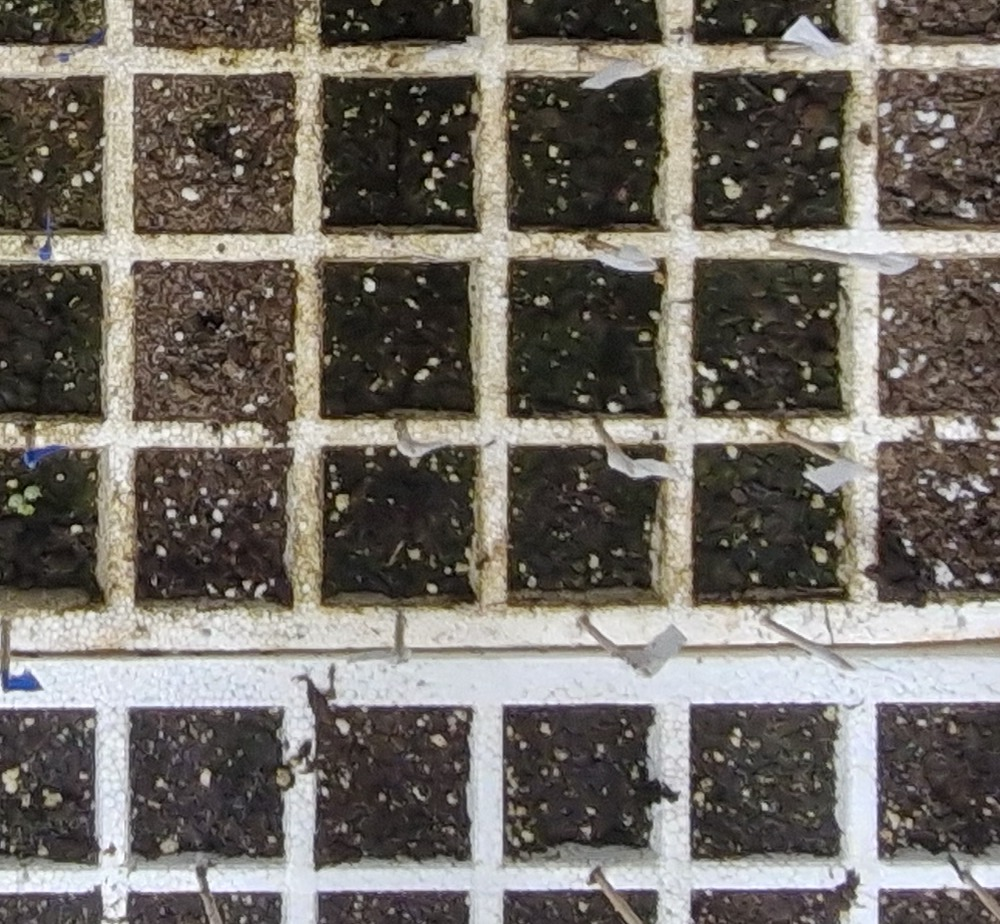Folha: (24, 487, 42, 500), (19, 504, 35, 515), (8, 495, 23, 506)
Germinacao: (6, 486, 42, 515)
